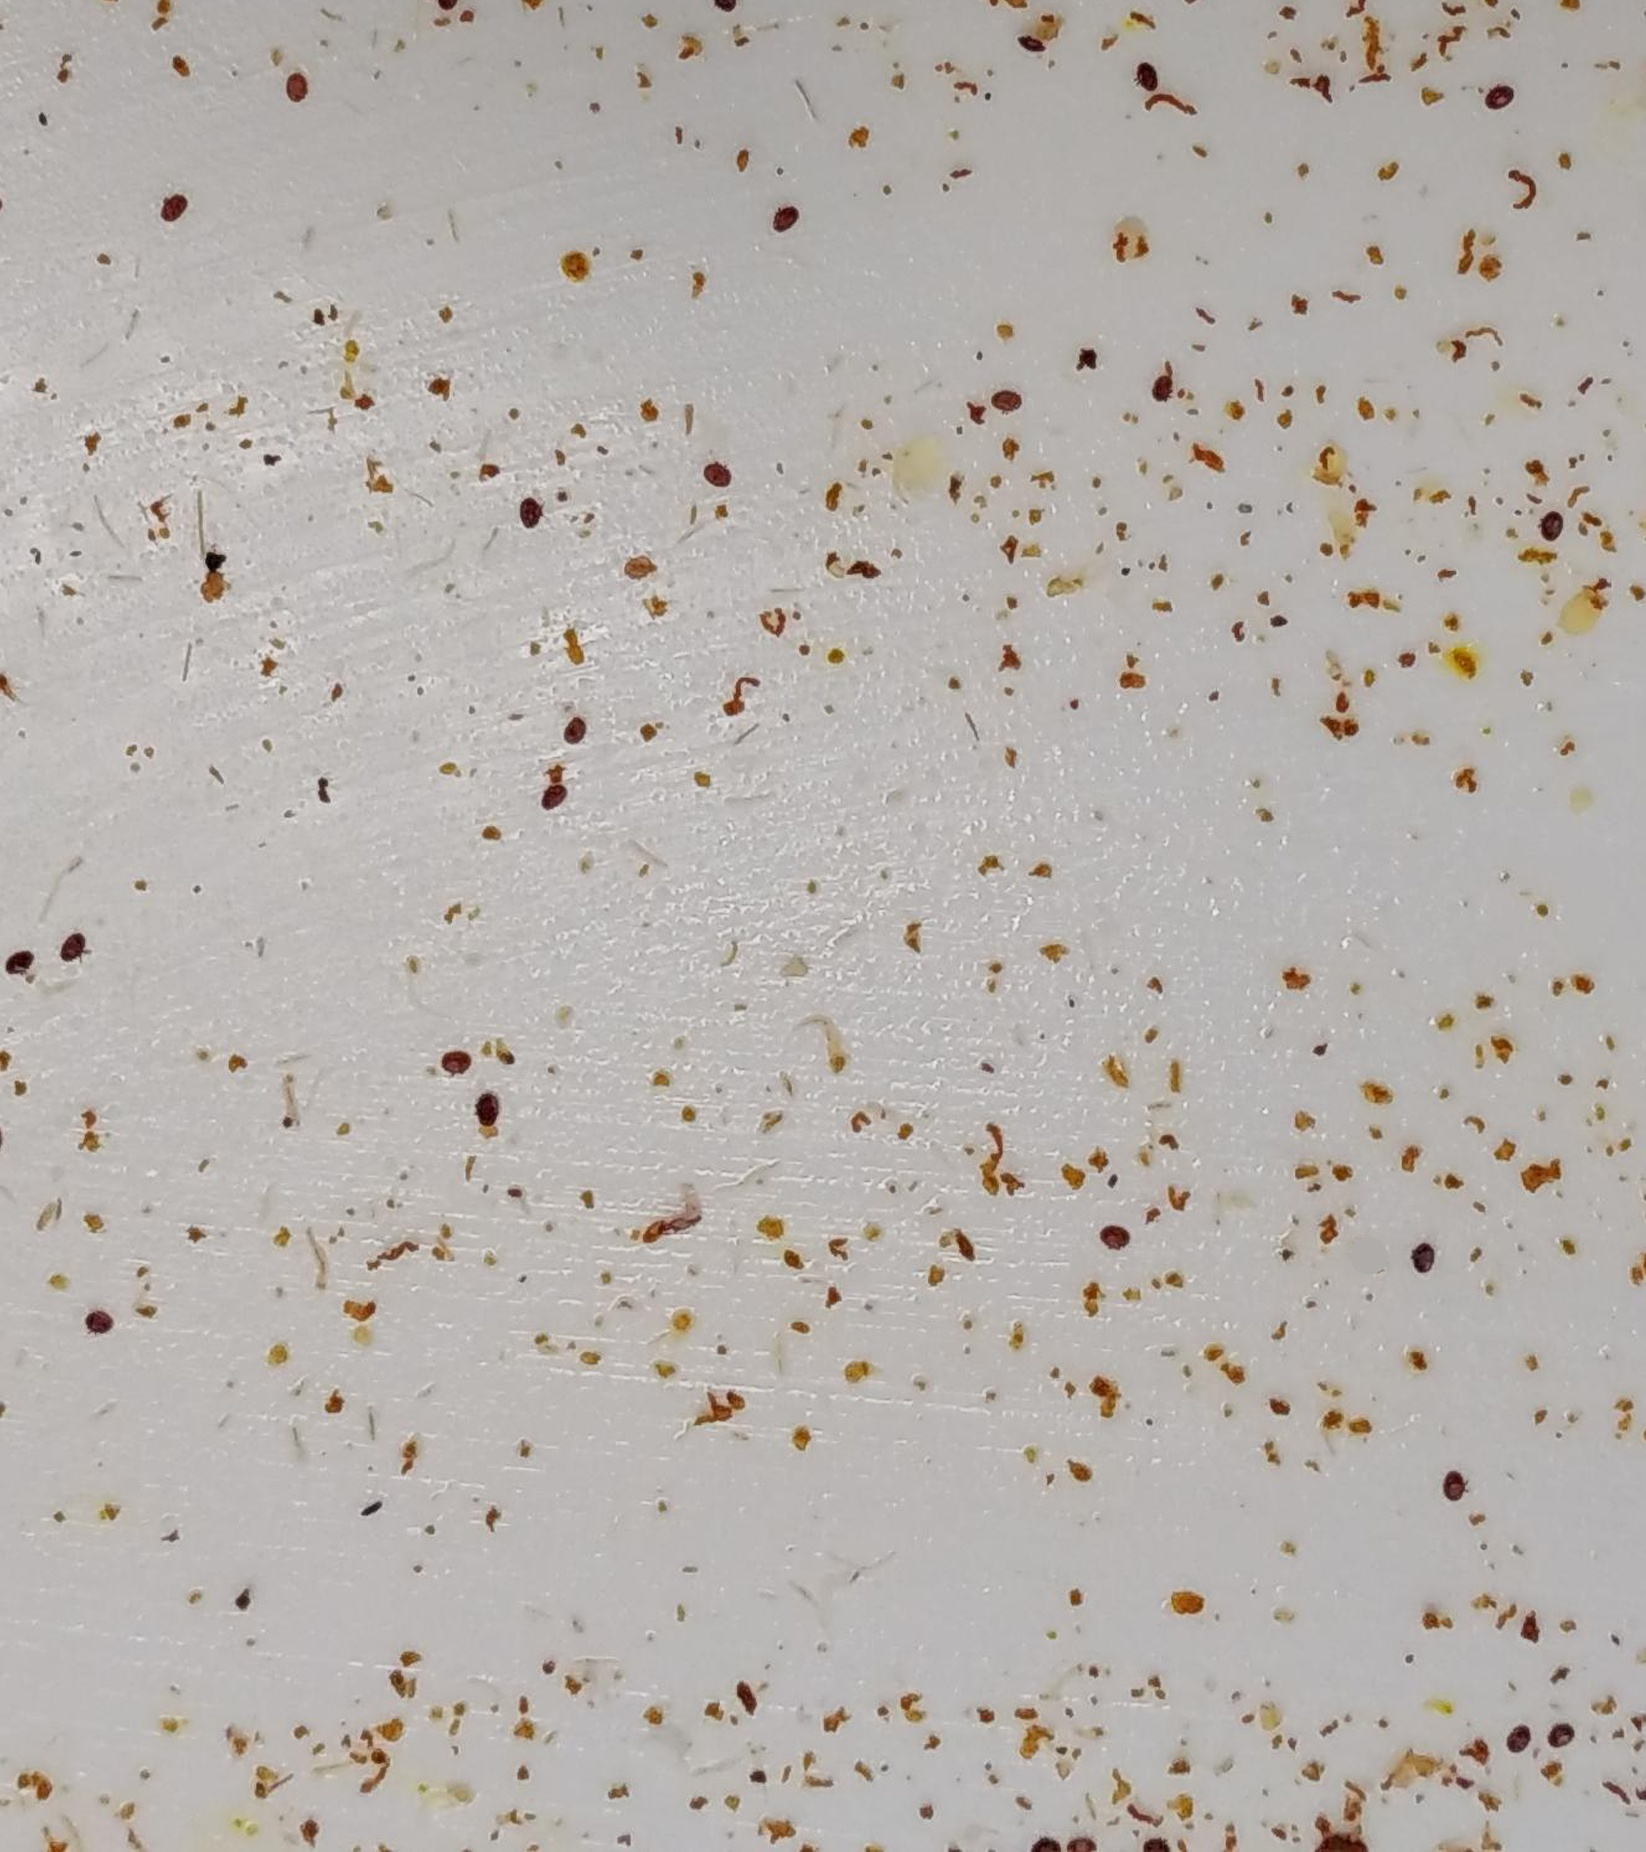Varroa: (1500, 1725, 1541, 1768), (1478, 95, 1524, 130), (1010, 25, 1049, 64), (1435, 1472, 1471, 1511), (512, 491, 547, 531), (1479, 73, 1516, 110), (281, 68, 318, 105), (151, 187, 189, 222), (766, 200, 801, 238), (1535, 505, 1570, 542), (1095, 1215, 1130, 1252), (1147, 372, 1182, 408), (443, 1036, 480, 1071), (1130, 56, 1165, 91), (988, 383, 1023, 418), (702, 456, 739, 489), (57, 926, 91, 963), (1552, 1717, 1586, 1754), (553, 712, 586, 747), (537, 785, 570, 820), (473, 1085, 505, 1120), (75, 1302, 106, 1336), (1406, 1242, 1438, 1274), (14, 947, 37, 974)
